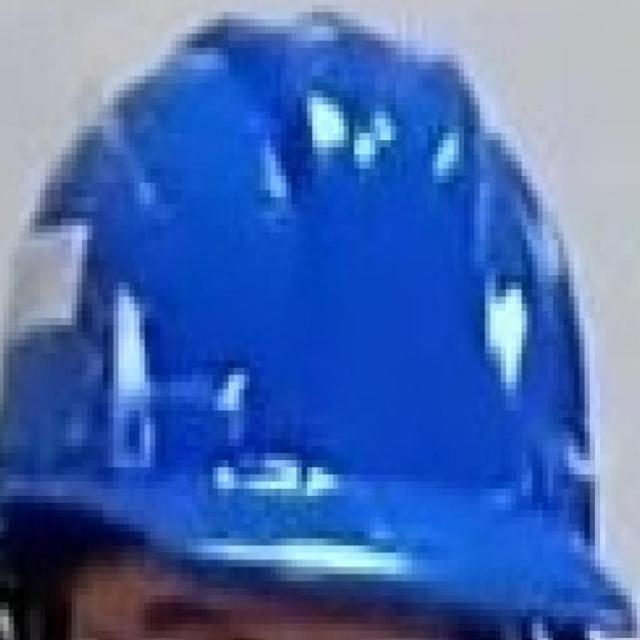helmet: (0, 5, 640, 590)
